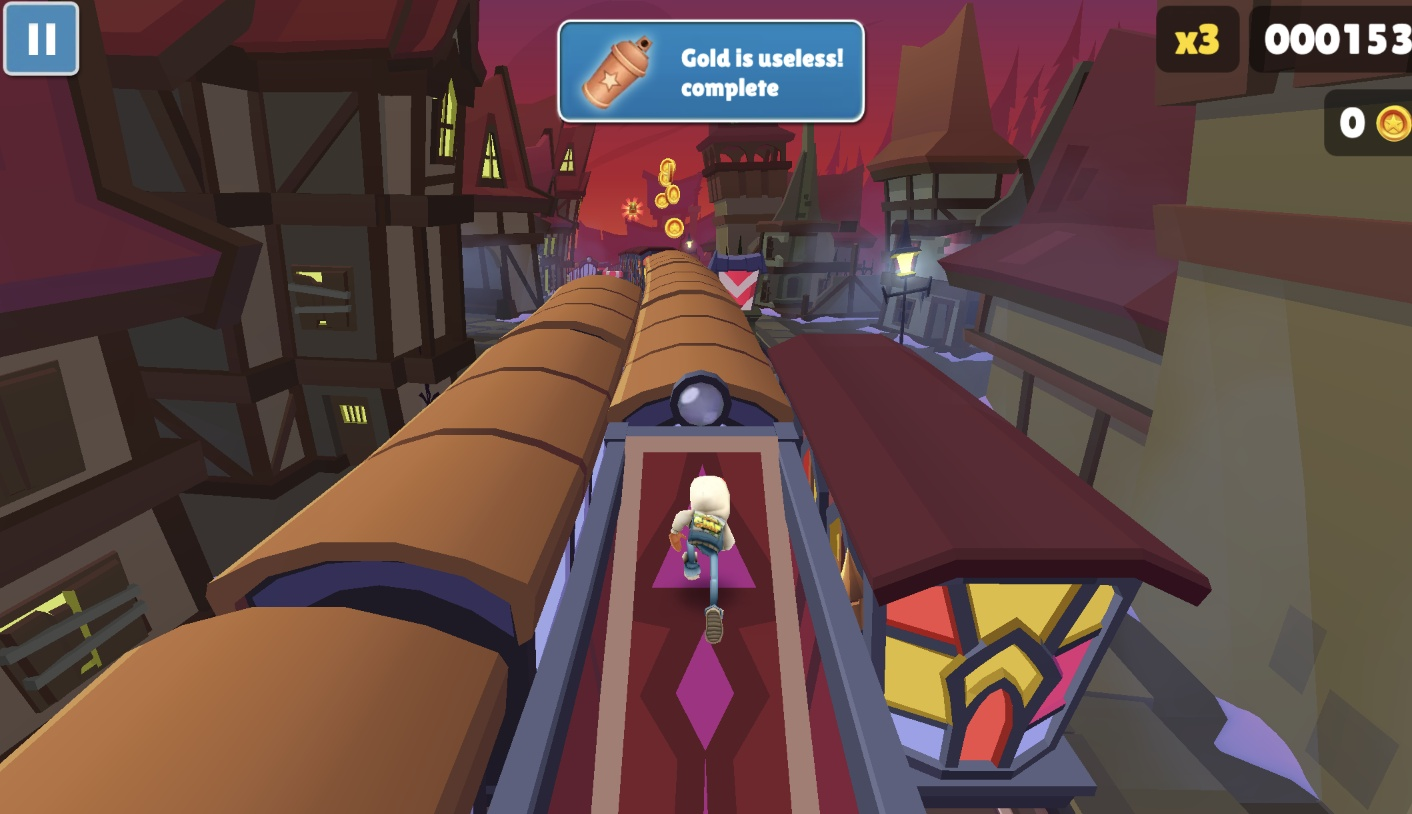overhead_barrier: (708, 251, 775, 333)
train: (0, 274, 642, 814), (489, 249, 925, 814), (765, 335, 1211, 814), (573, 258, 612, 285)
